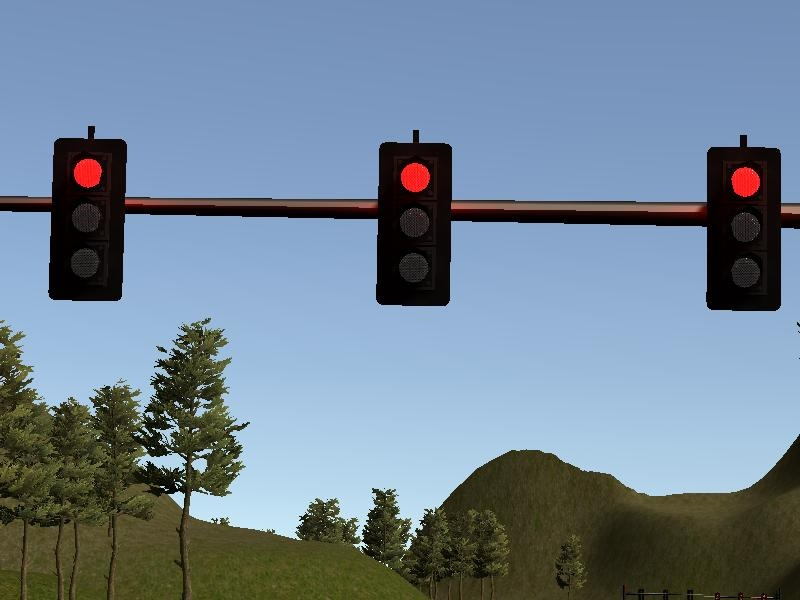red: (45, 136, 130, 306), (373, 141, 455, 309), (704, 145, 783, 314)
